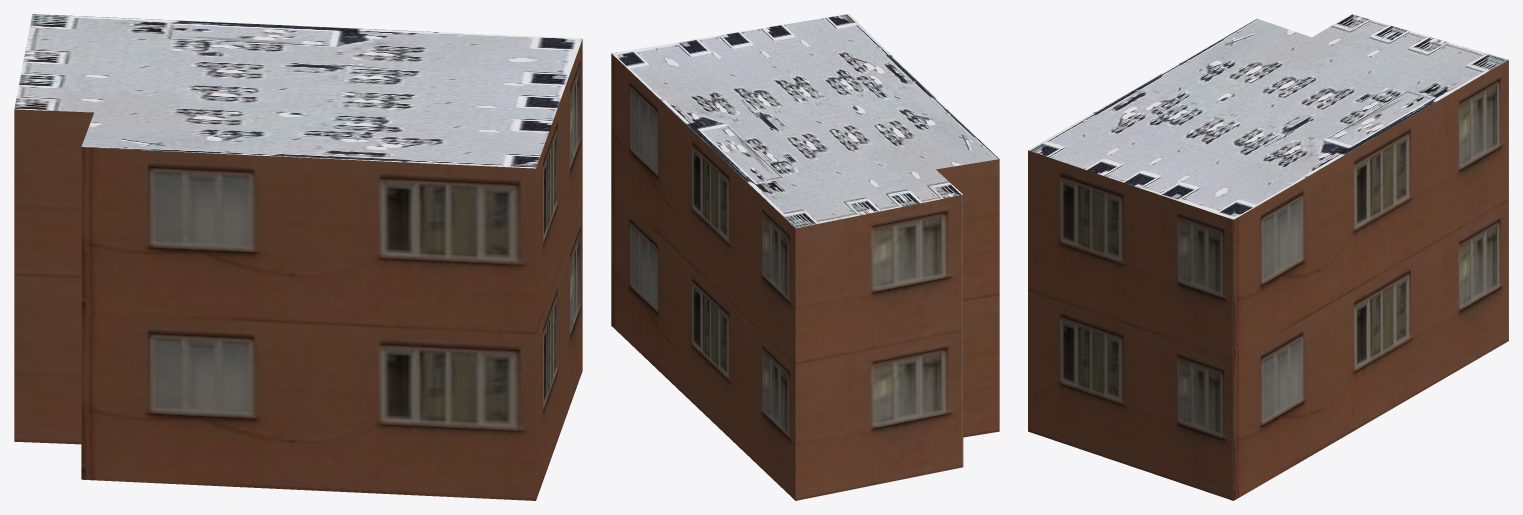
The model's file is ResTex__322.fbx.
The picture shows the model from 3 angles, left to right: view 1: azimuth 30°, elevation 25°; view 2: azimuth 150°, elevation 25°; view 3: azimuth 270°, elevation 25°; orthographic projection. The views are drawn at different scales.
Parts seen in each view (by area): view 1: CityEngineMaterial_20_m, CityEngineMaterial_4_m; view 2: CityEngineMaterial_20_m, CityEngineMaterial_4_m; view 3: CityEngineMaterial_20_m, CityEngineMaterial_4_m.
Boxes of the visible parts, x1,y1,x2,y2 form: CityEngineMaterial_20_m: (14,39,582,500); CityEngineMaterial_4_m: (14,14,582,168); CityEngineMaterial_20_m: (611,53,999,500); CityEngineMaterial_4_m: (612,14,999,228); CityEngineMaterial_20_m: (1028,60,1508,500); CityEngineMaterial_4_m: (1028,14,1508,219).
Bounding box in the file's own units: 9.42 × 6 × 9.3.
2 materials, 2 textured.
